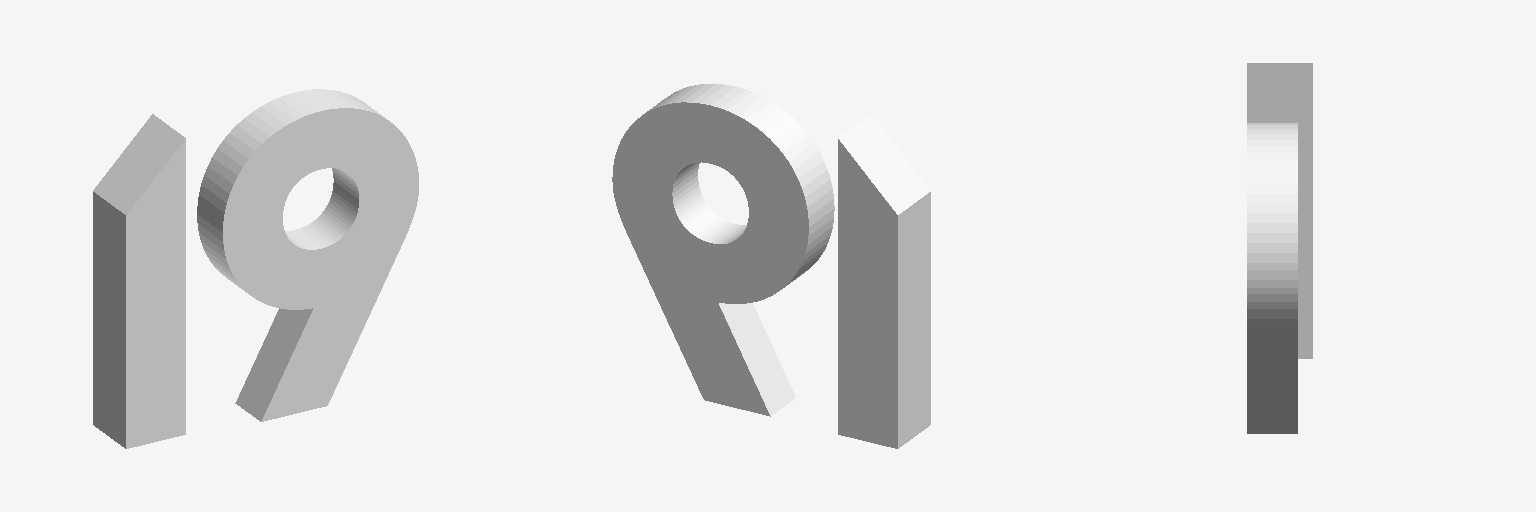
The model's file is answer.obj.
3 renders of one model, left to right at view 1: azimuth 30°, elevation 25°; view 2: azimuth 150°, elevation 25°; view 3: azimuth 270°, elevation 25°, orthographic.
Visible parts, largest first — view 1: Cap_1_2, Cap_1, Extrude_1, Extrude; view 2: Cap_2_2, Cap_2, Extrude_1, Extrude; view 3: Extrude_1, Extrude.
Part boxes in pixels (left/top/right/bottom): Cap_1_2: left=223, top=108, right=418, bottom=421; Cap_1: left=126, top=139, right=185, bottom=448; Extrude_1: left=197, top=89, right=385, bottom=421; Extrude: left=93, top=114, right=185, bottom=448; Cap_2_2: left=612, top=102, right=808, bottom=416; Cap_2: left=838, top=139, right=897, bottom=448; Extrude_1: left=643, top=84, right=834, bottom=415; Extrude: left=838, top=114, right=930, bottom=448; Extrude_1: left=1247, top=123, right=1297, bottom=433; Extrude: left=1247, top=63, right=1312, bottom=358.
Bounding box in the file's own units: 13.42 × 13.22 × 2.65.